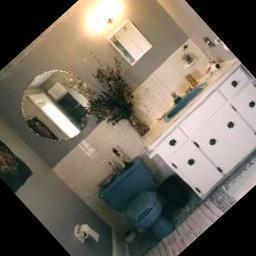Bote de Basura: (155, 171, 198, 215)
Lavamanos: (156, 72, 213, 126)
Sanitario: (93, 153, 193, 255)
